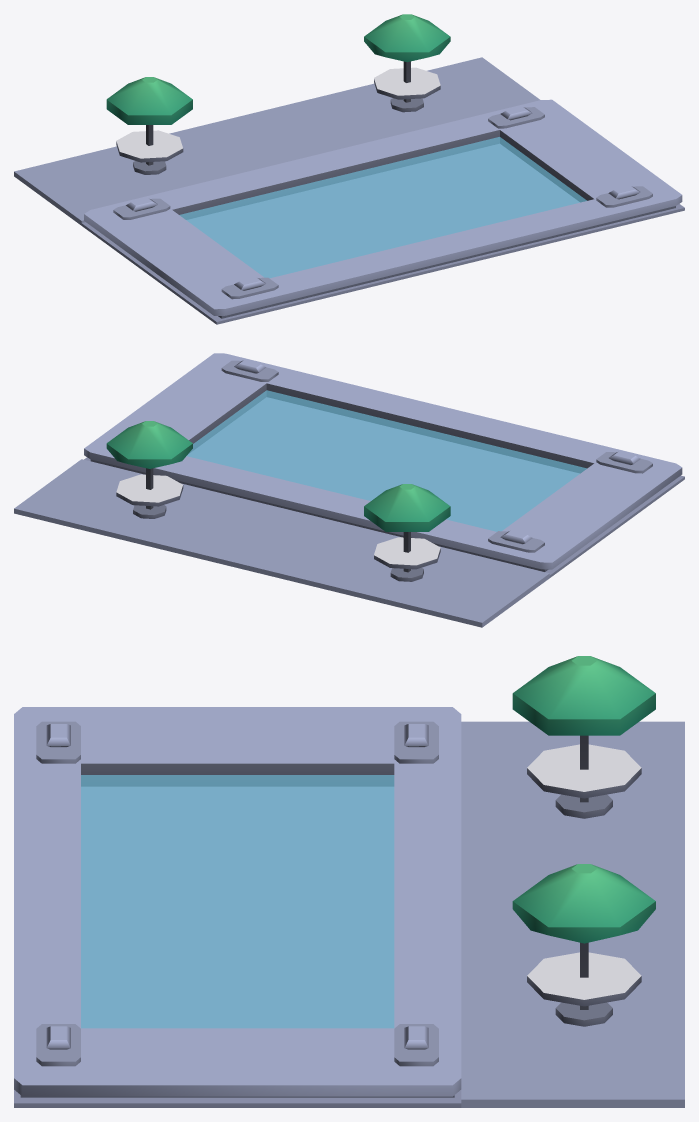
The model's file is swimming-pool.glb.
3 views of the same model, one above another, from view 1: azimuth 30°, elevation 25°; view 2: azimuth 150°, elevation 25°; view 3: azimuth 270°, elevation 25° (orthographic). The views are drawn at different scales.
Visible parts, largest first — view 1: fountain-square, (%ignore), road, detail-parasol-a, detail-parasol-b; view 2: fountain-square, road, (%ignore), detail-parasol-a, detail-parasol-b; view 3: fountain-square, (%ignore), road, detail-parasol-a, detail-parasol-b.
Part boxes in pixels (x1,y1,x2,y2): fountain-square: [81, 99, 684, 324]; (%ignore): [179, 137, 586, 278]; road: [14, 57, 540, 225]; detail-parasol-a: [106, 77, 192, 174]; detail-parasol-b: [364, 14, 450, 112]; fountain-square: [84, 353, 684, 577]; road: [14, 459, 549, 627]; (%ignore): [187, 390, 586, 531]; detail-parasol-a: [364, 484, 450, 581]; detail-parasol-b: [106, 421, 192, 518]; fountain-square: [14, 707, 461, 1107]; (%ignore): [81, 775, 394, 1028]; road: [461, 721, 684, 1107]; detail-parasol-a: [512, 656, 655, 818]; detail-parasol-b: [512, 864, 655, 1026].
Bounding box in the file's own units: 4 × 0.76 × 3.
Materials: 5 (4 with a texture image).
